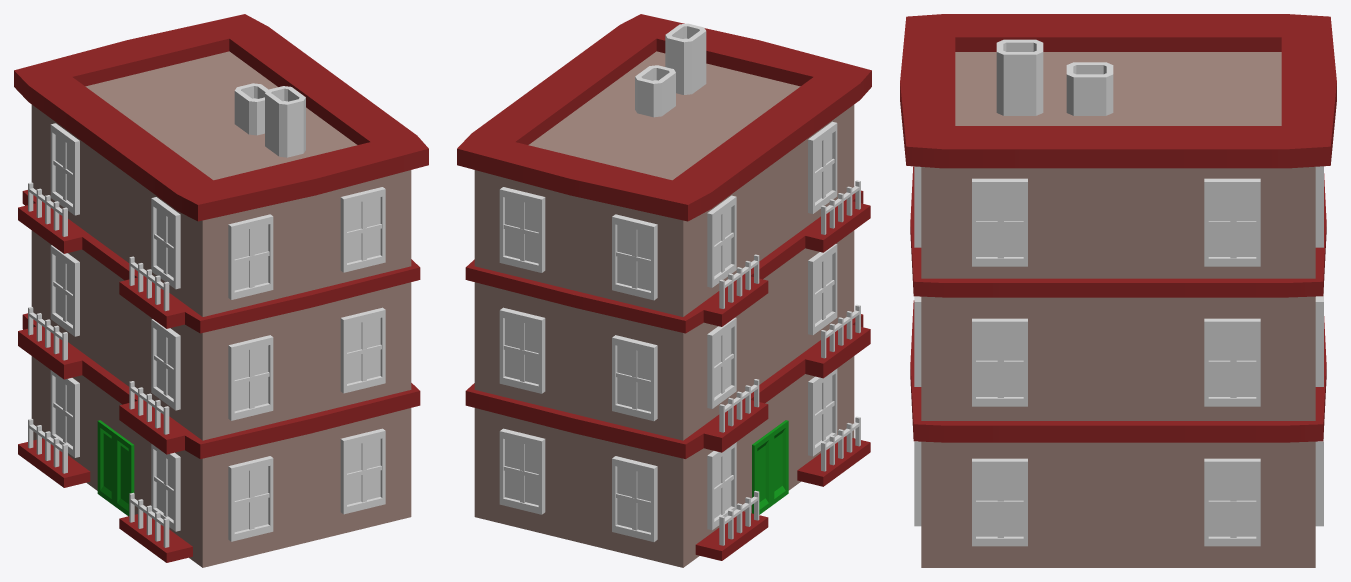
Rendered from batiment 3.FBX.
The picture shows the model from 3 angles, left to right: view 1: azimuth 30°, elevation 25°; view 2: azimuth 150°, elevation 25°; view 3: azimuth 270°, elevation 25°; orthographic projection. The views are drawn at different scales.
Visible parts, largest first — view 1: Box002, bordures, fenetre014, rambarde006, Box003, porte entrée3; view 2: Box002, bordures, fenetre014, rambarde006, Box003, porte entrée3; view 3: Box002, bordures, fenetre014, Box003.
Part boxes in pixels (x1,y1,x2,y2): Box002: (31, 51, 411, 567); bordures: (14, 14, 428, 562); fenetre014: (50, 123, 385, 541); rambarde006: (28, 182, 169, 547); Box003: (234, 83, 305, 157); porte entrée3: (97, 420, 134, 516); Box002: (474, 51, 854, 567); bordures: (457, 14, 871, 560); fenetre014: (499, 121, 837, 541); rambarde006: (719, 180, 860, 545); Box003: (635, 23, 706, 117); porte entrée3: (752, 420, 788, 514); Box002: (921, 52, 1315, 567); bordures: (900, 14, 1336, 442); fenetre014: (914, 166, 1323, 546); Box003: (996, 39, 1113, 115).
Size of the model in its own units: 890 by 1394 by 1164.
